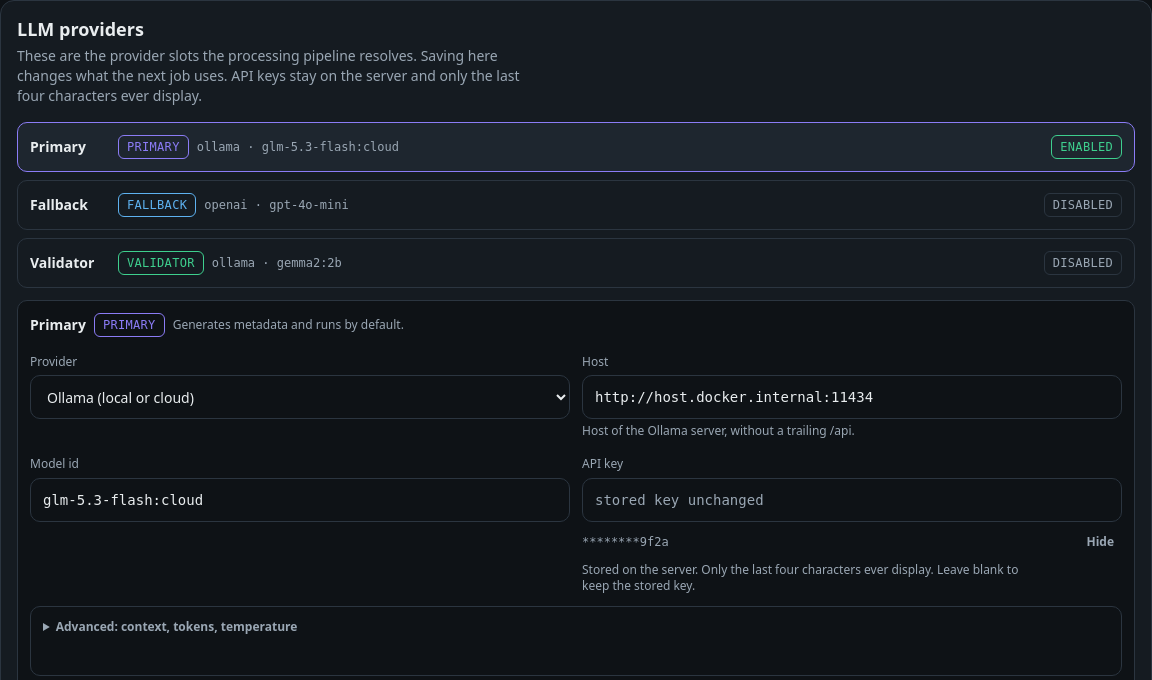
Scenario: LlmConnectionsSection › renders every provider slot in the list and edits the selected one
The width and height of the screenshot is (1152, 680).
Check: the field showing "glm-5.3-flash:cloud" is shown, box [30, 478, 570, 522]
Check: the field showing "http://host.docker.internal:11434" is shown, box [582, 375, 1122, 419]
Click the button "Fallback fallback openai · gpt-4o-mini disabled" at coordinates (59, 204), box [17, 180, 1135, 230]
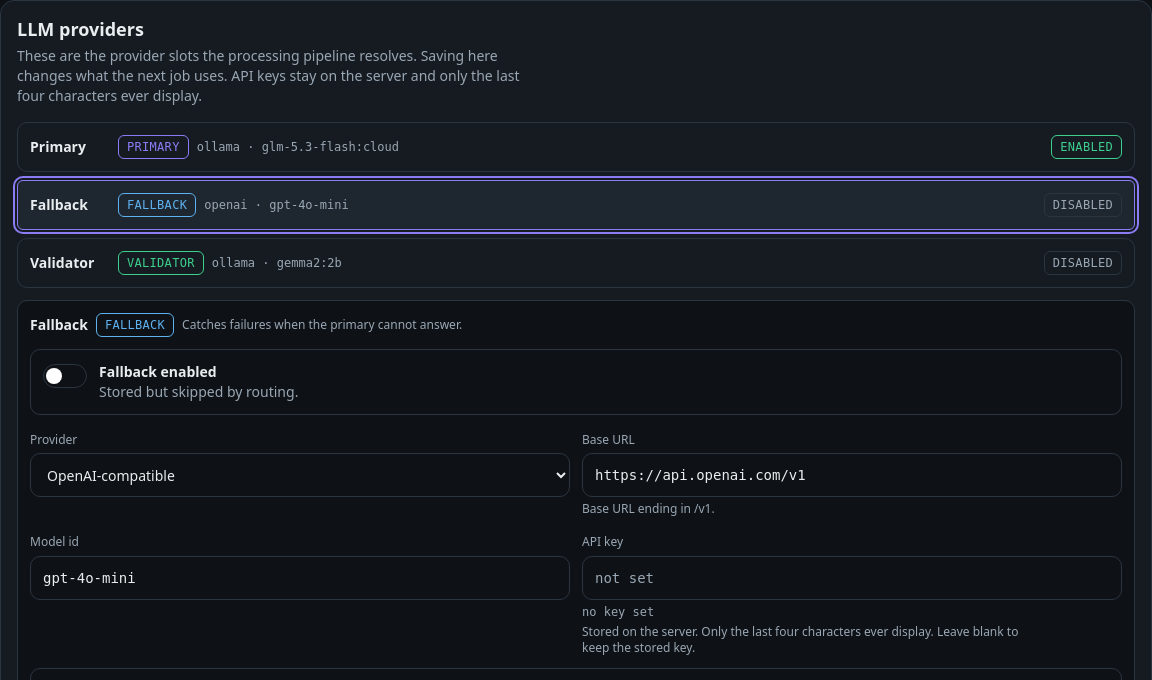
Check: the field showing "gpt-4o-mini" is shown, box [30, 556, 570, 600]
